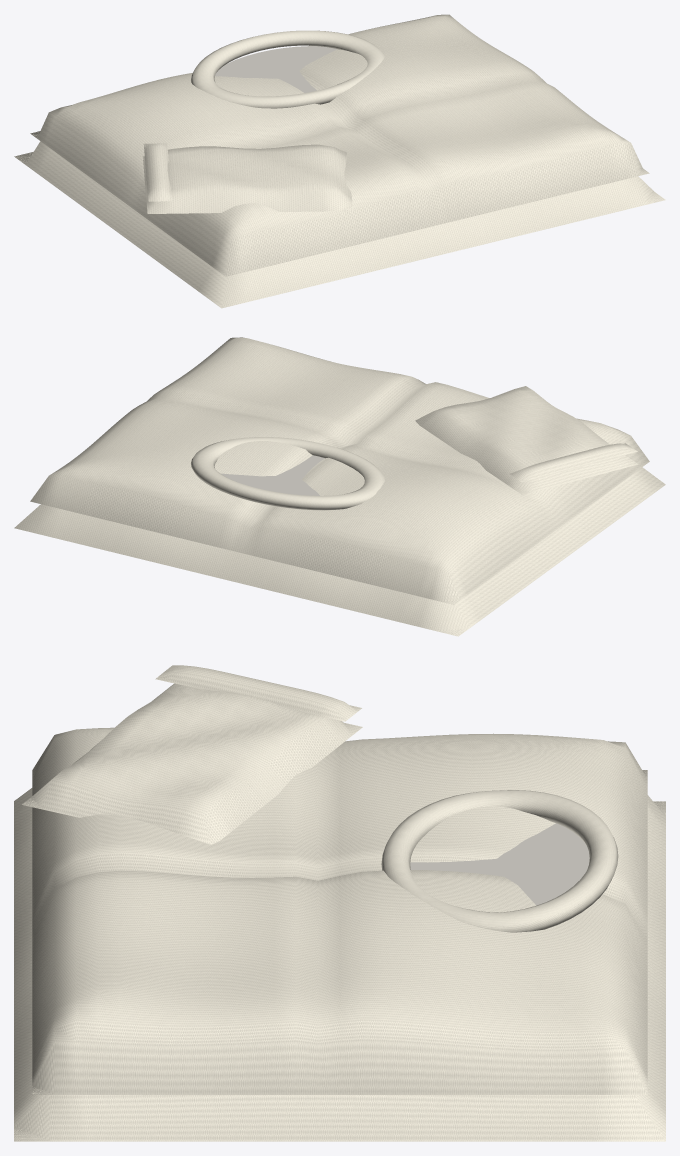
The model's file is beefy-t-shirt.glb.
The picture shows the model from 3 angles, top to bottom: view 1: azimuth 30°, elevation 25°; view 2: azimuth 150°, elevation 25°; view 3: azimuth 270°, elevation 25°; orthographic projection. The views are drawn at different scales.
Visible parts, largest first — view 1: BeefyT_FoldedBody, BeefyT_Collar, BeefyT_NeckOpening; view 2: BeefyT_FoldedBody, BeefyT_Collar, BeefyT_NeckOpening; view 3: BeefyT_FoldedBody, BeefyT_Collar, BeefyT_NeckOpening.
Part boxes in pixels (box(x1,y1,x2,y2)): BeefyT_FoldedBody: box(14, 14, 665, 308); BeefyT_Collar: box(191, 30, 384, 108); BeefyT_NeckOpening: box(215, 46, 337, 92); BeefyT_FoldedBody: box(14, 337, 665, 636); BeefyT_Collar: box(191, 437, 384, 510); BeefyT_NeckOpening: box(221, 455, 324, 495); BeefyT_FoldedBody: box(14, 665, 665, 1141); BeefyT_Collar: box(381, 790, 618, 932); BeefyT_NeckOpening: box(410, 823, 589, 905).
Size of the model in its own units: 0.2758 by 0.046 by 0.212.
2 materials, 1 textured.
